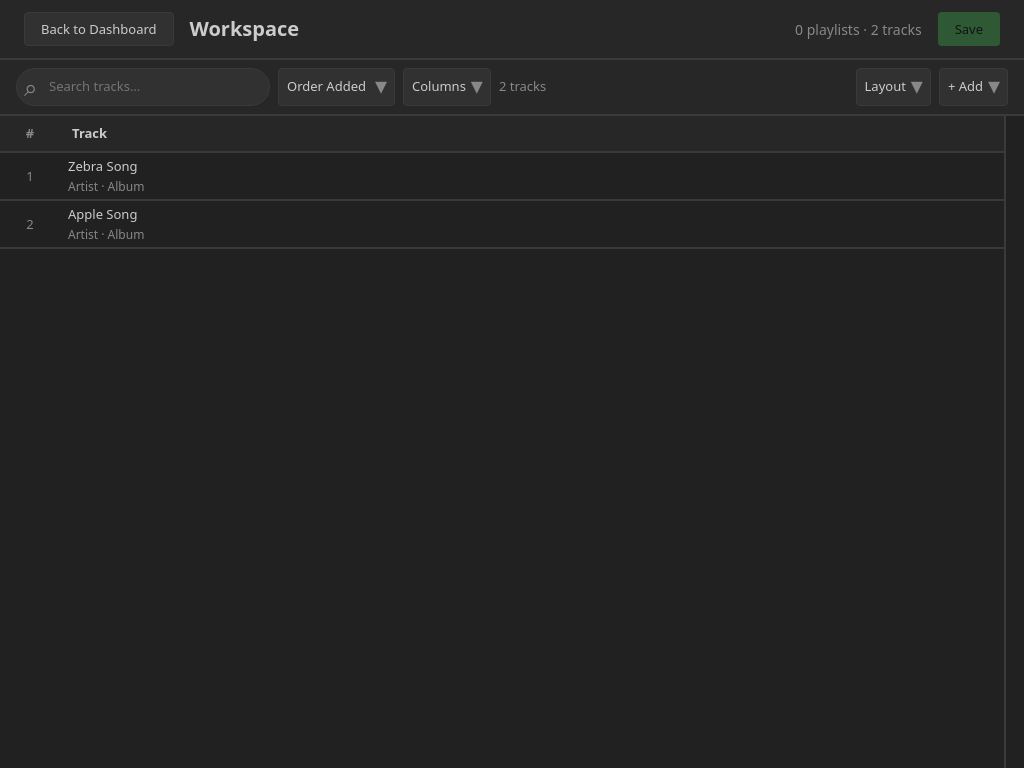
Scenario: WorkspaceView › sort options › selecting title sort orders rows by title
Select "Title" in the 1st dropdown with class "dropdown" at (336, 87), box [278, 68, 395, 106]
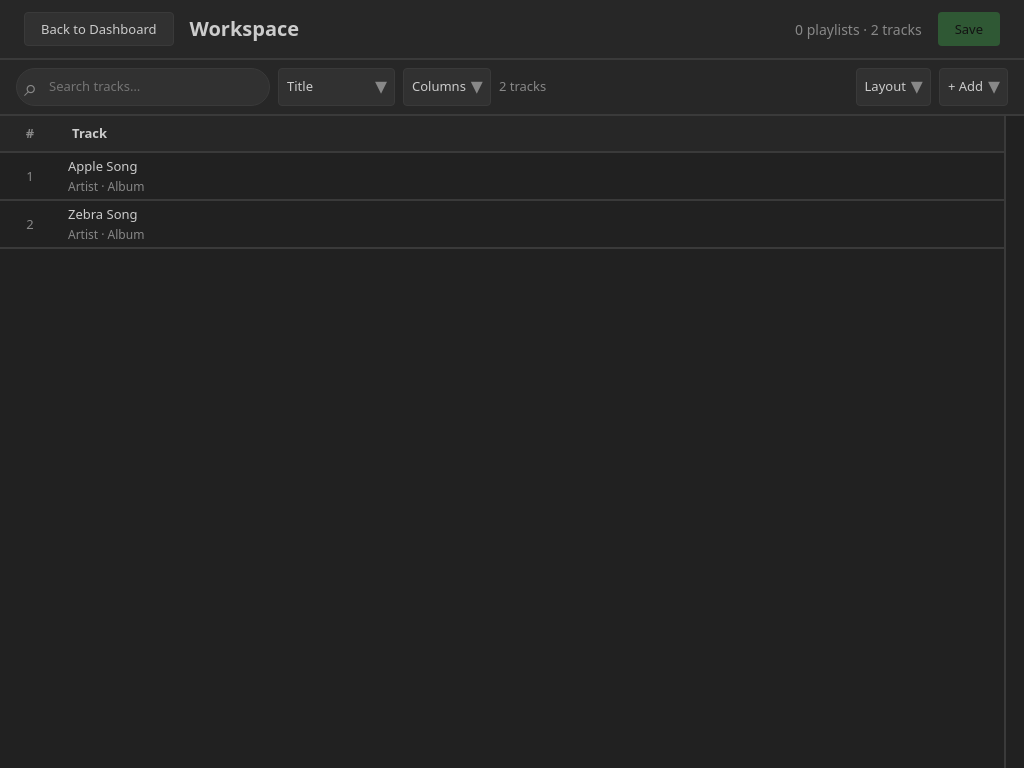
Expected: the elements with class "track-row__title" read "Apple Song", "Zebra Song", in this order, [68, 156, 137, 174]; [68, 204, 138, 222]
